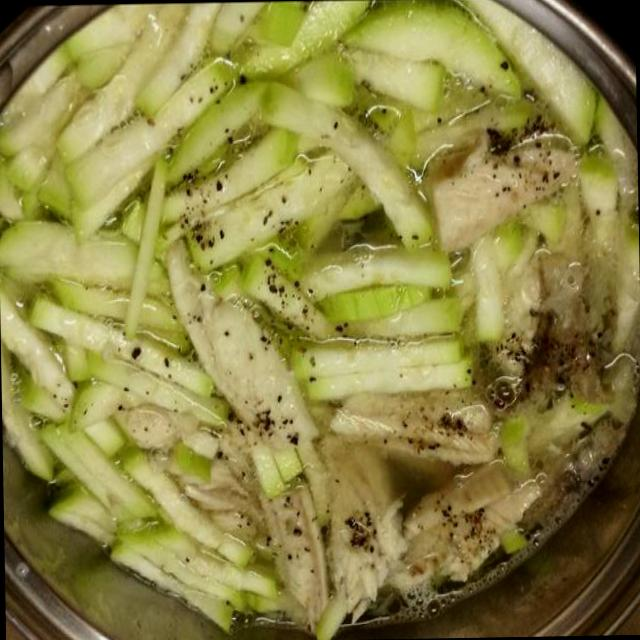canh bau: (0, 1, 640, 640)
